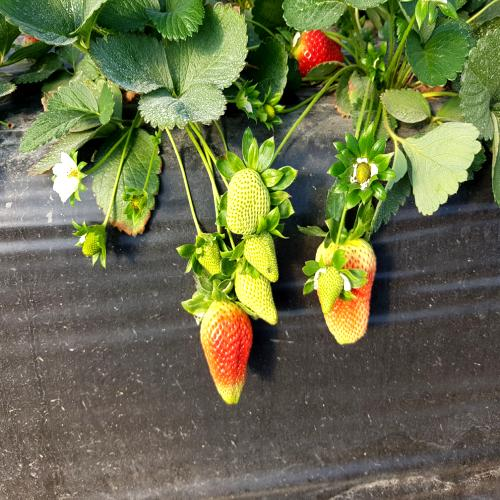partially-ripe: (196, 294, 262, 414), (315, 238, 381, 344)
unripe: (230, 226, 285, 321), (223, 162, 271, 243)
